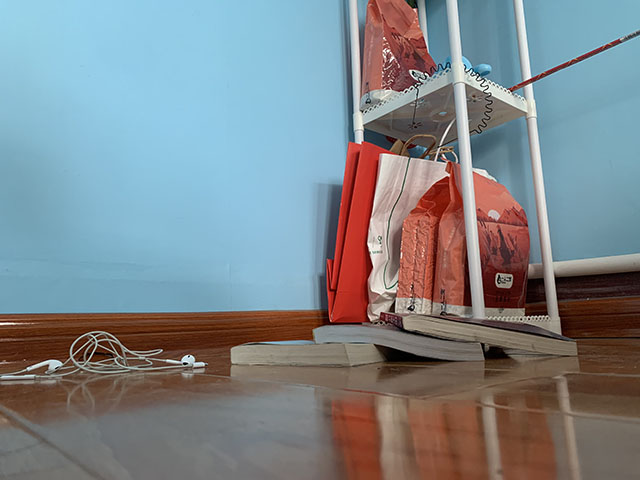book: (229, 312, 579, 369)
wire: (1, 329, 209, 381)
